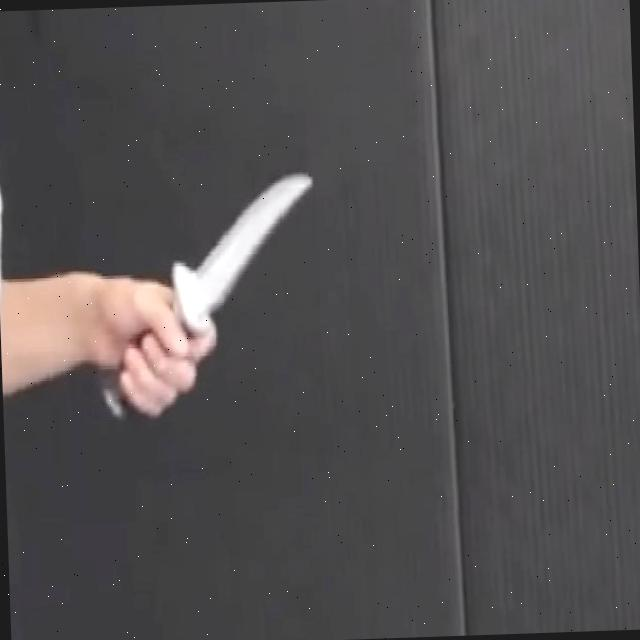suspicion: (0, 154, 333, 429), (89, 162, 328, 421)
